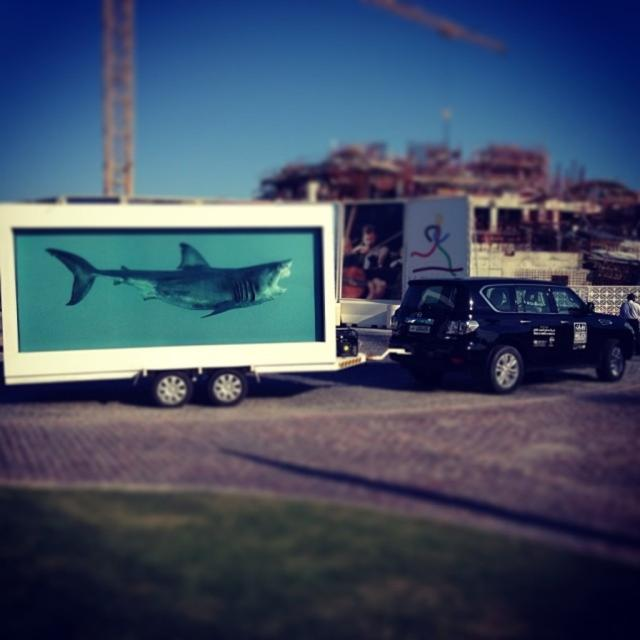car: (386, 277, 638, 392)
